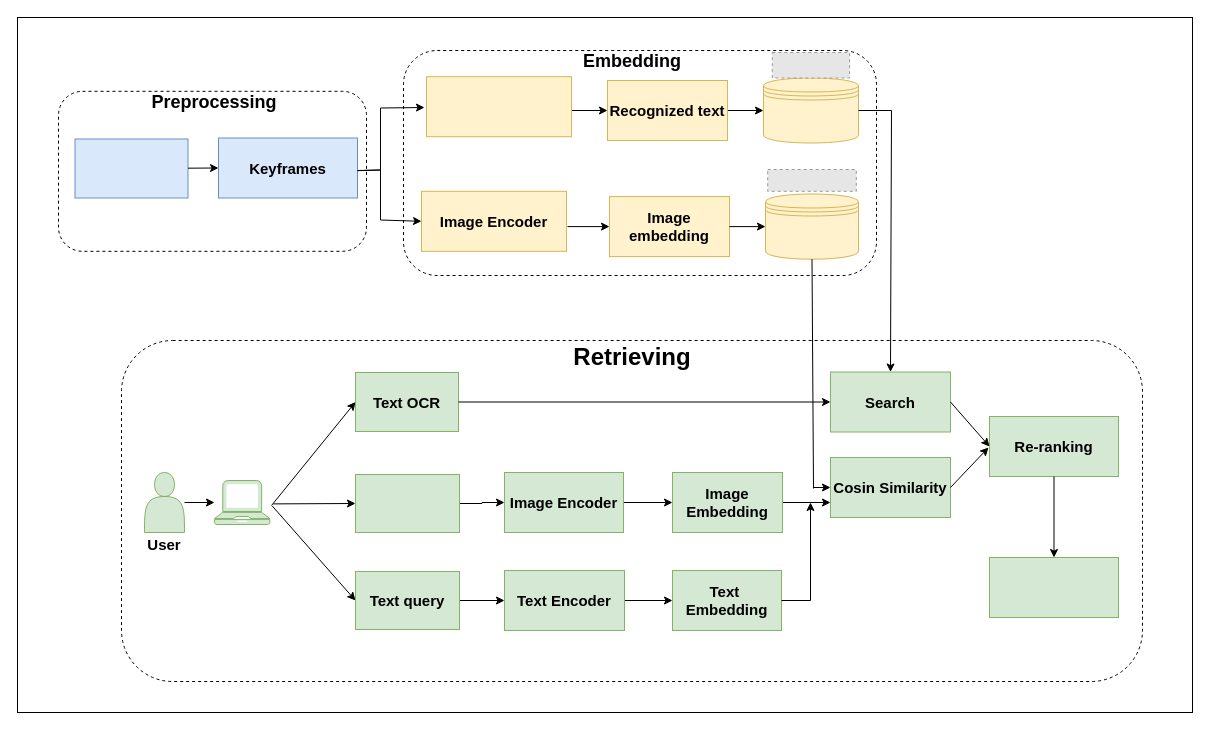
The diagram is 1210 pixels wide and 730 high, and some of its shapes have lost their labels. Grey dashed boxes stand in for pictures. The centre of each missing label's shape, as x and y in pixels:
"EasyOCR" belongs at (499,106).
"Elasticsearch" belongs at (810,110).
"Milvus database" belongs at (811,226).
"Top k keyframes" belongs at (1053,587).
"Uploaded image" belongs at (407,503).
"Videos" belongs at (131,168).
